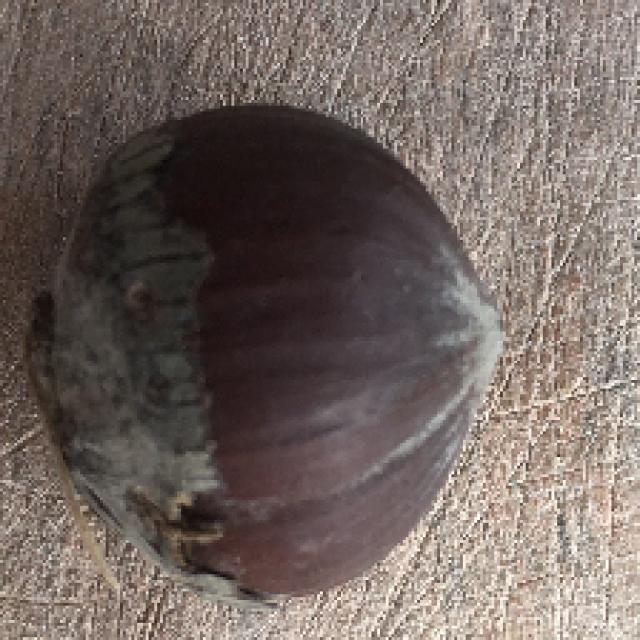damagedHazelnut: (27, 97, 506, 598)
